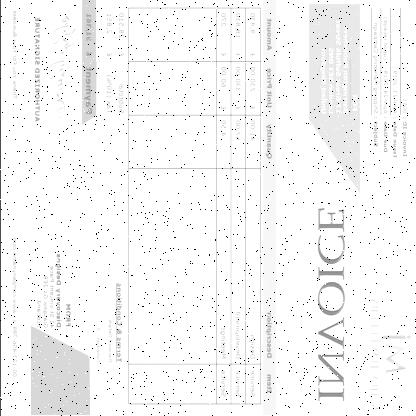Paragraph: (314, 206, 346, 404), (369, 8, 409, 162), (316, 15, 360, 121), (82, 12, 126, 116), (34, 251, 72, 331), (93, 280, 123, 366), (9, 236, 19, 380), (367, 294, 379, 413), (9, 8, 18, 102)
Table: (216, 7, 275, 403)
